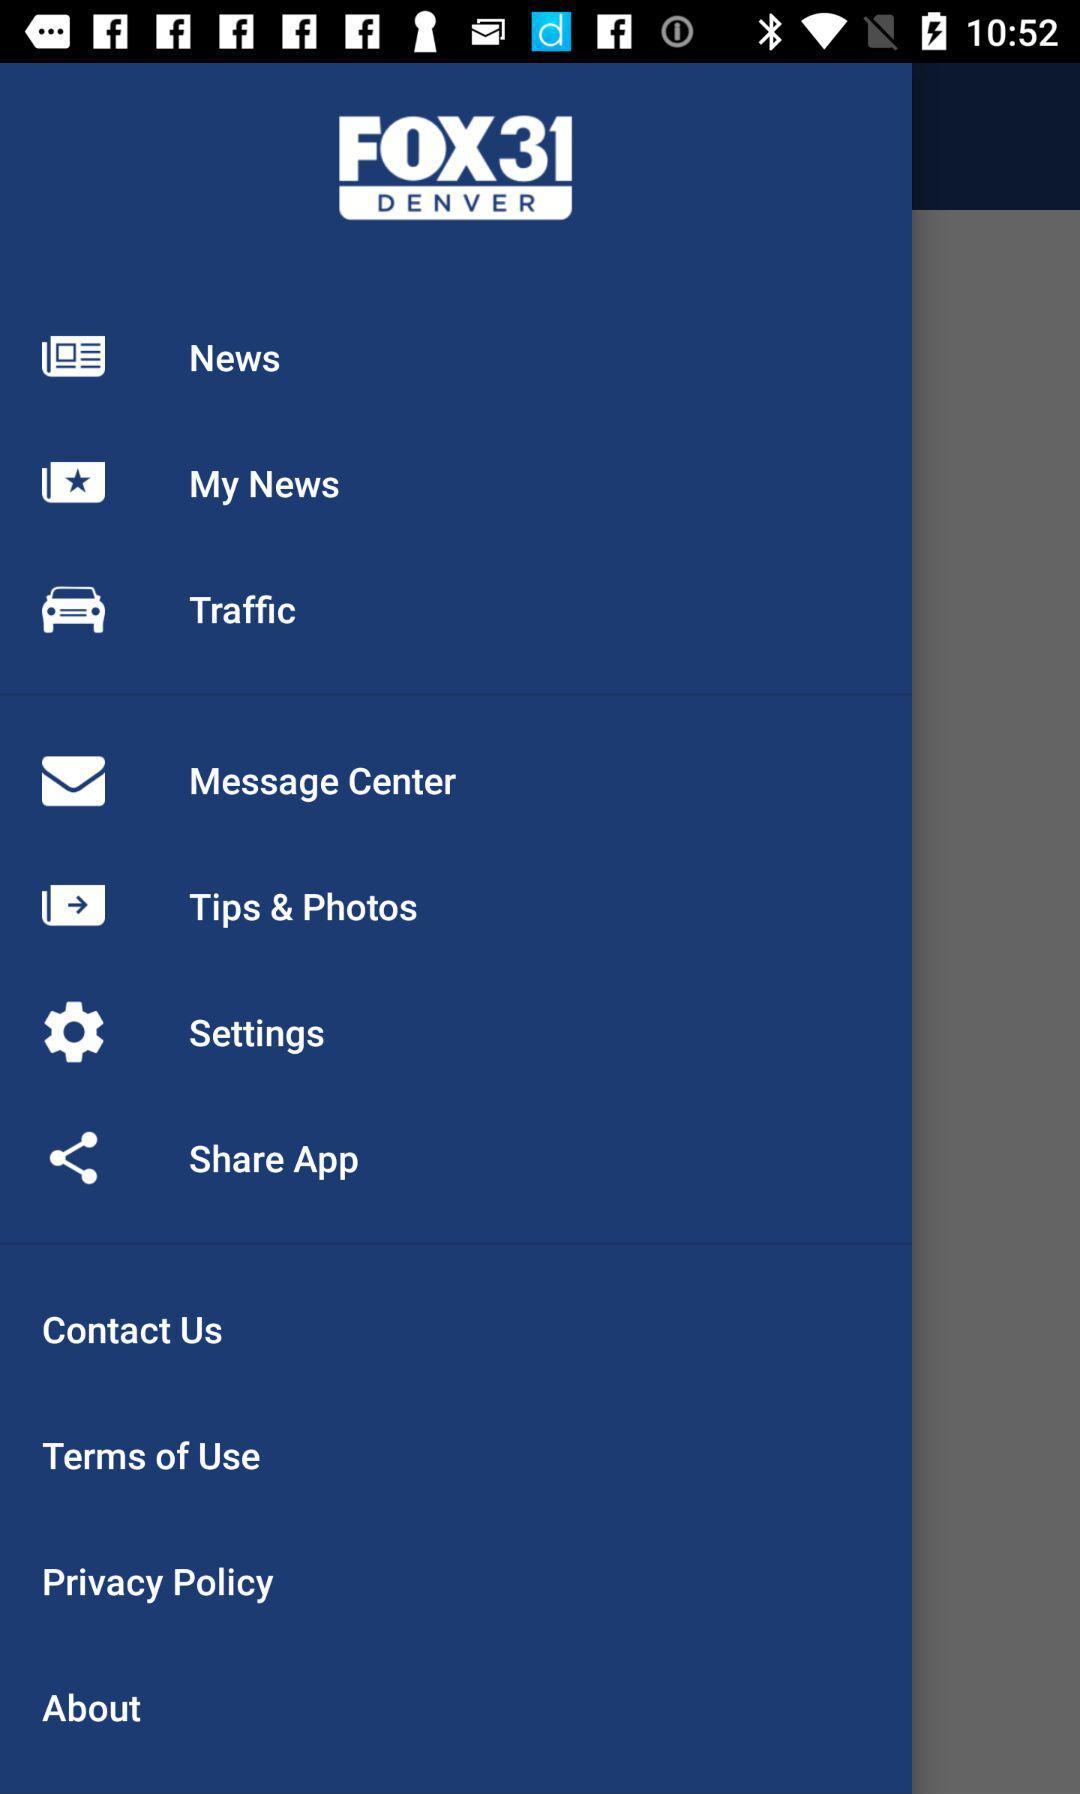Drawer: (1, 64, 911, 1793)
Icon: (44, 1000, 106, 1064), (42, 756, 108, 809), (42, 336, 108, 379), (42, 884, 108, 926), (42, 463, 108, 505), (49, 1132, 99, 1187)
Image: (340, 117, 574, 222), (42, 586, 108, 636)
Text: (190, 768, 457, 805), (190, 891, 419, 932), (44, 1566, 275, 1606), (42, 1440, 263, 1472), (188, 1143, 360, 1181), (44, 1315, 225, 1347), (190, 469, 340, 507), (190, 1017, 325, 1056), (190, 595, 297, 627), (41, 1691, 142, 1724), (190, 343, 281, 374)
UpperTaskBar: (1, 1, 1080, 64)
